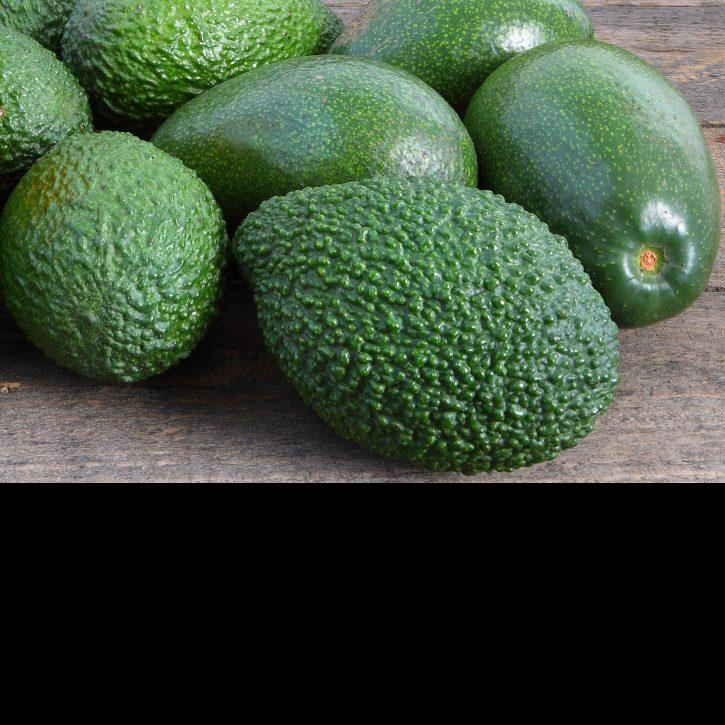unripe: (232, 178, 619, 474), (462, 38, 718, 329), (1, 131, 231, 385), (152, 54, 478, 232), (61, 1, 346, 131), (331, 1, 595, 119), (1, 26, 93, 205)
